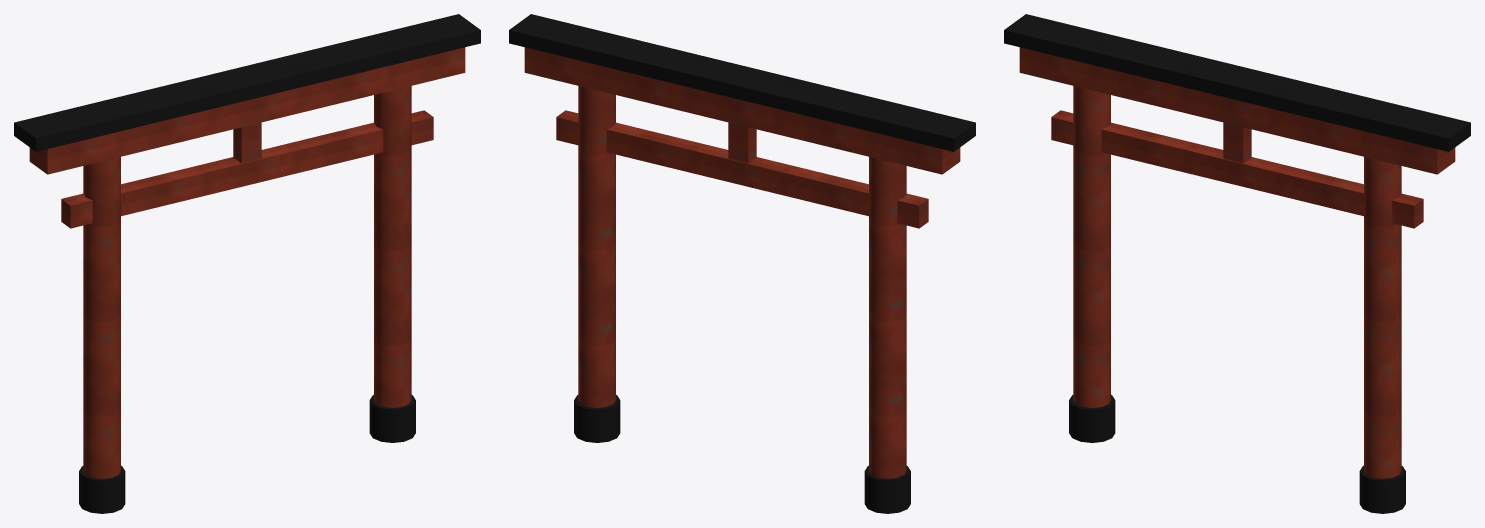
File: torii.glb
The picture shows the model from 3 angles, left to right: view 1: azimuth 30°, elevation 25°; view 2: azimuth 150°, elevation 25°; view 3: azimuth 330°, elevation 25°; orthographic projection.
Parts seen in each view (by area): view 1: torii; view 2: torii; view 3: torii.
Part boxes in pixels (x1=…): torii: x1=14, y1=14, x2=480, y2=513; torii: x1=509, y1=14, x2=975, y2=513; torii: x1=1004, y1=14, x2=1470, y2=513.
Size of the model in its own units: 4.9 by 4.13 by 0.44.
Materials: 2 (2 with a texture image).
